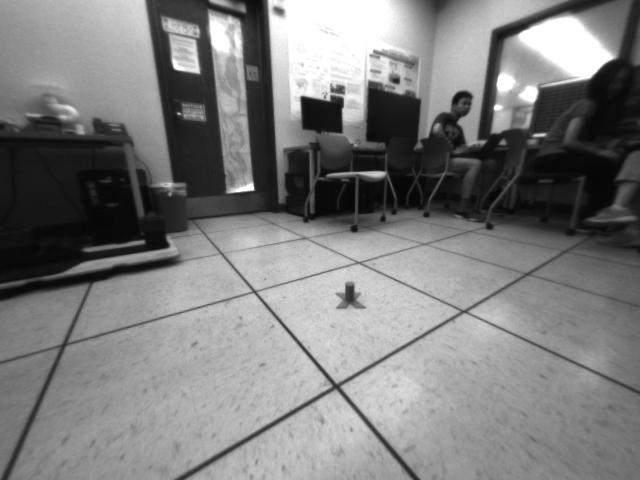x: (335, 278, 367, 314)
